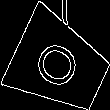O_SE: (30, 34, 89, 95)
